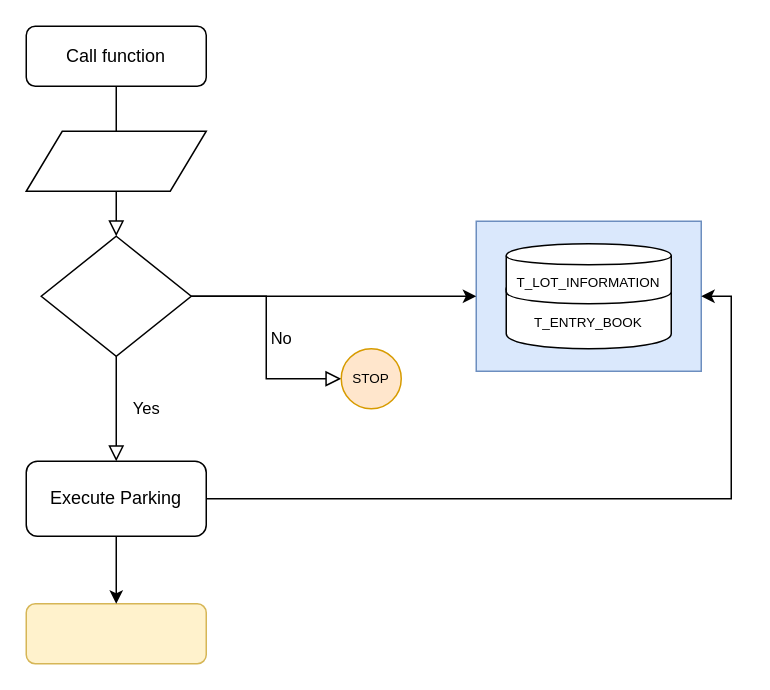
The diagram is 770 pixels wide and 690 high, and some of its shapes have lost their labels. The centre of each missing label's shape, as x and y in pixels:
End: point (115, 633)
Possible to parking?: point (115, 295)
Vehicle Information, User Information: point (115, 160)
